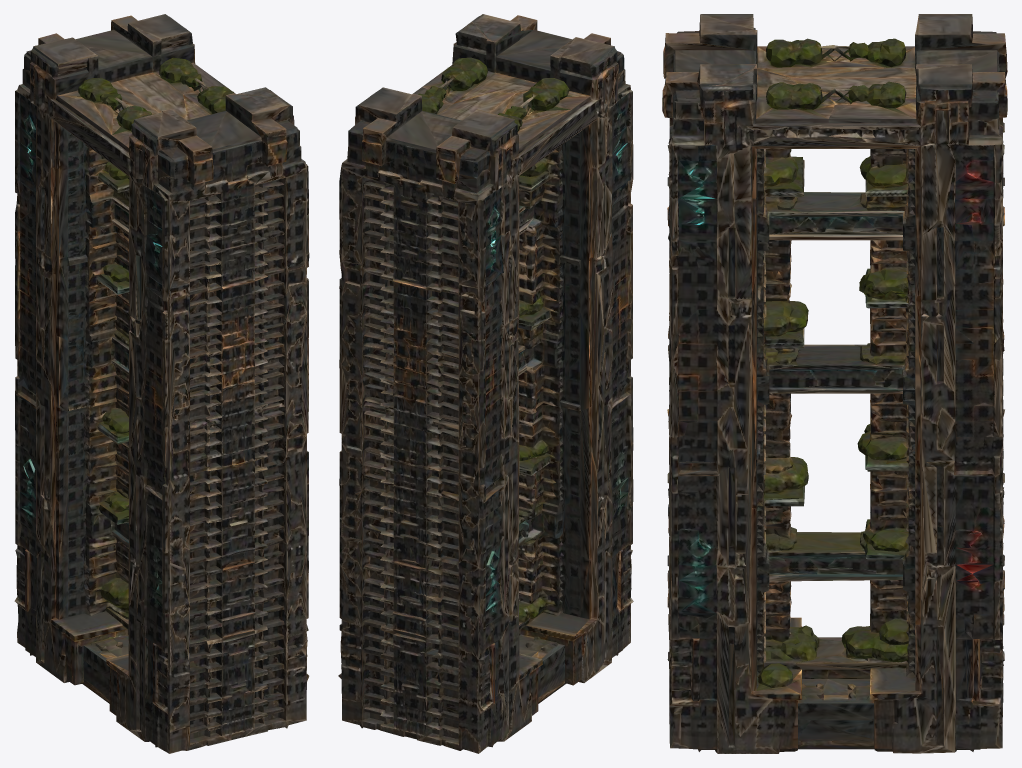
The picture shows the model from 3 angles, left to right: view 1: azimuth 30°, elevation 25°; view 2: azimuth 150°, elevation 25°; view 3: azimuth 270°, elevation 25°; orthographic projection. The views are drawn at different scales.
Visible parts, largest first — view 1: m02; view 2: m02; view 3: m02.
Boxes of the visible parts, box(x1,y1,x2,y2) form: m02: box(14, 14, 309, 753); m02: box(338, 14, 633, 753); m02: box(662, 14, 1007, 753).
Size of the model in its own units: 40.08 by 160 by 75.1.
Materials: 1 (1 with a texture image).
